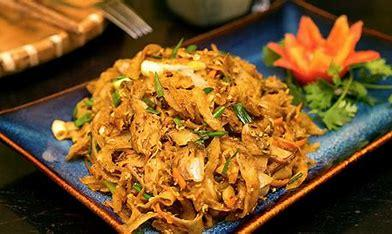Kottu: (76, 40, 311, 222)
